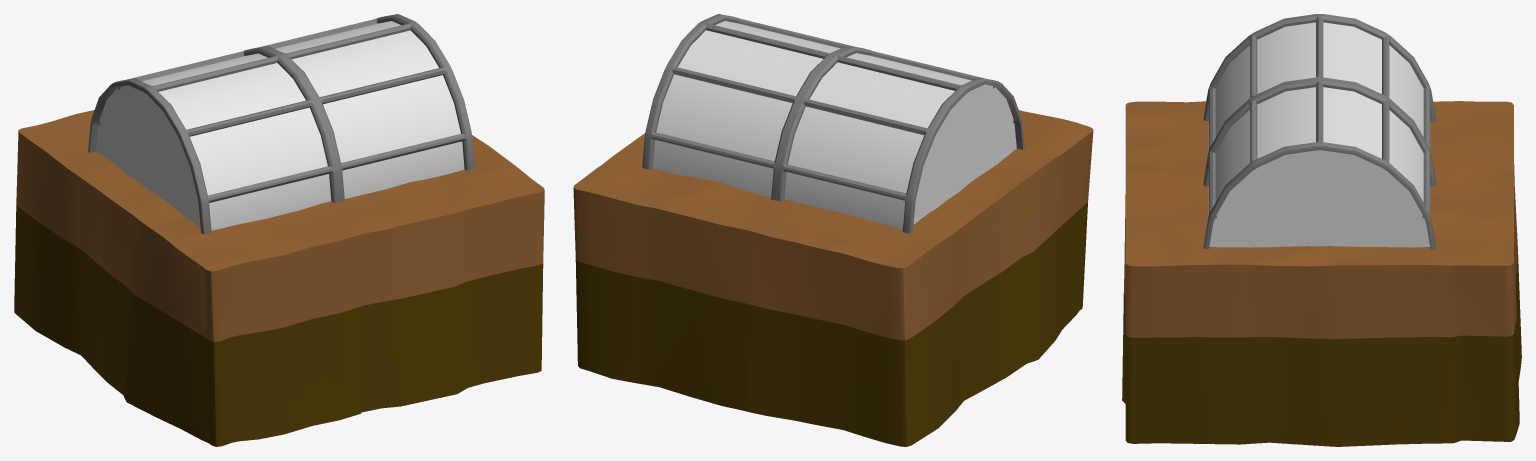
Rendered from accommodation.fbx.
3 views of the same model, side by side, from view 1: azimuth 30°, elevation 25°; view 2: azimuth 150°, elevation 25°; view 3: azimuth 270°, elevation 25° (orthographic).
Parts seen in each view (by area): view 1: ground6, pCylinder15; view 2: ground6, pCylinder15; view 3: ground6, pCylinder15.
Boxes of the visible parts, <box> form: ground6: <box>14,110,544,446</box>; pCylinder15: <box>88,14,475,234</box>; ground6: <box>573,110,1093,446</box>; pCylinder15: <box>642,14,1024,233</box>; ground6: <box>1122,101,1521,446</box>; pCylinder15: <box>1203,14,1436,249</box>.
Size of the model in its own units: 20.78 by 15.97 by 20.34.
